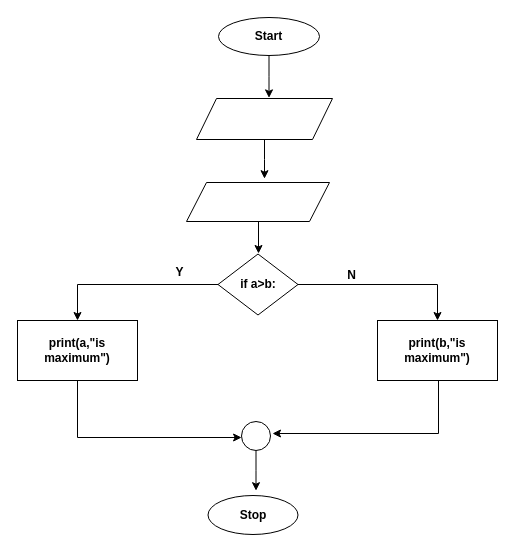
Some shapes in this 515 by 552 pixel diagram are drawn without their labels. The shapes that lost their labels are listed below. From the top down, each one's centre as x and y in pixels, then its label:
point 264,119: Input("Enter ist number,a")
point 258,202: Input ('Enter 2nd number,b")
